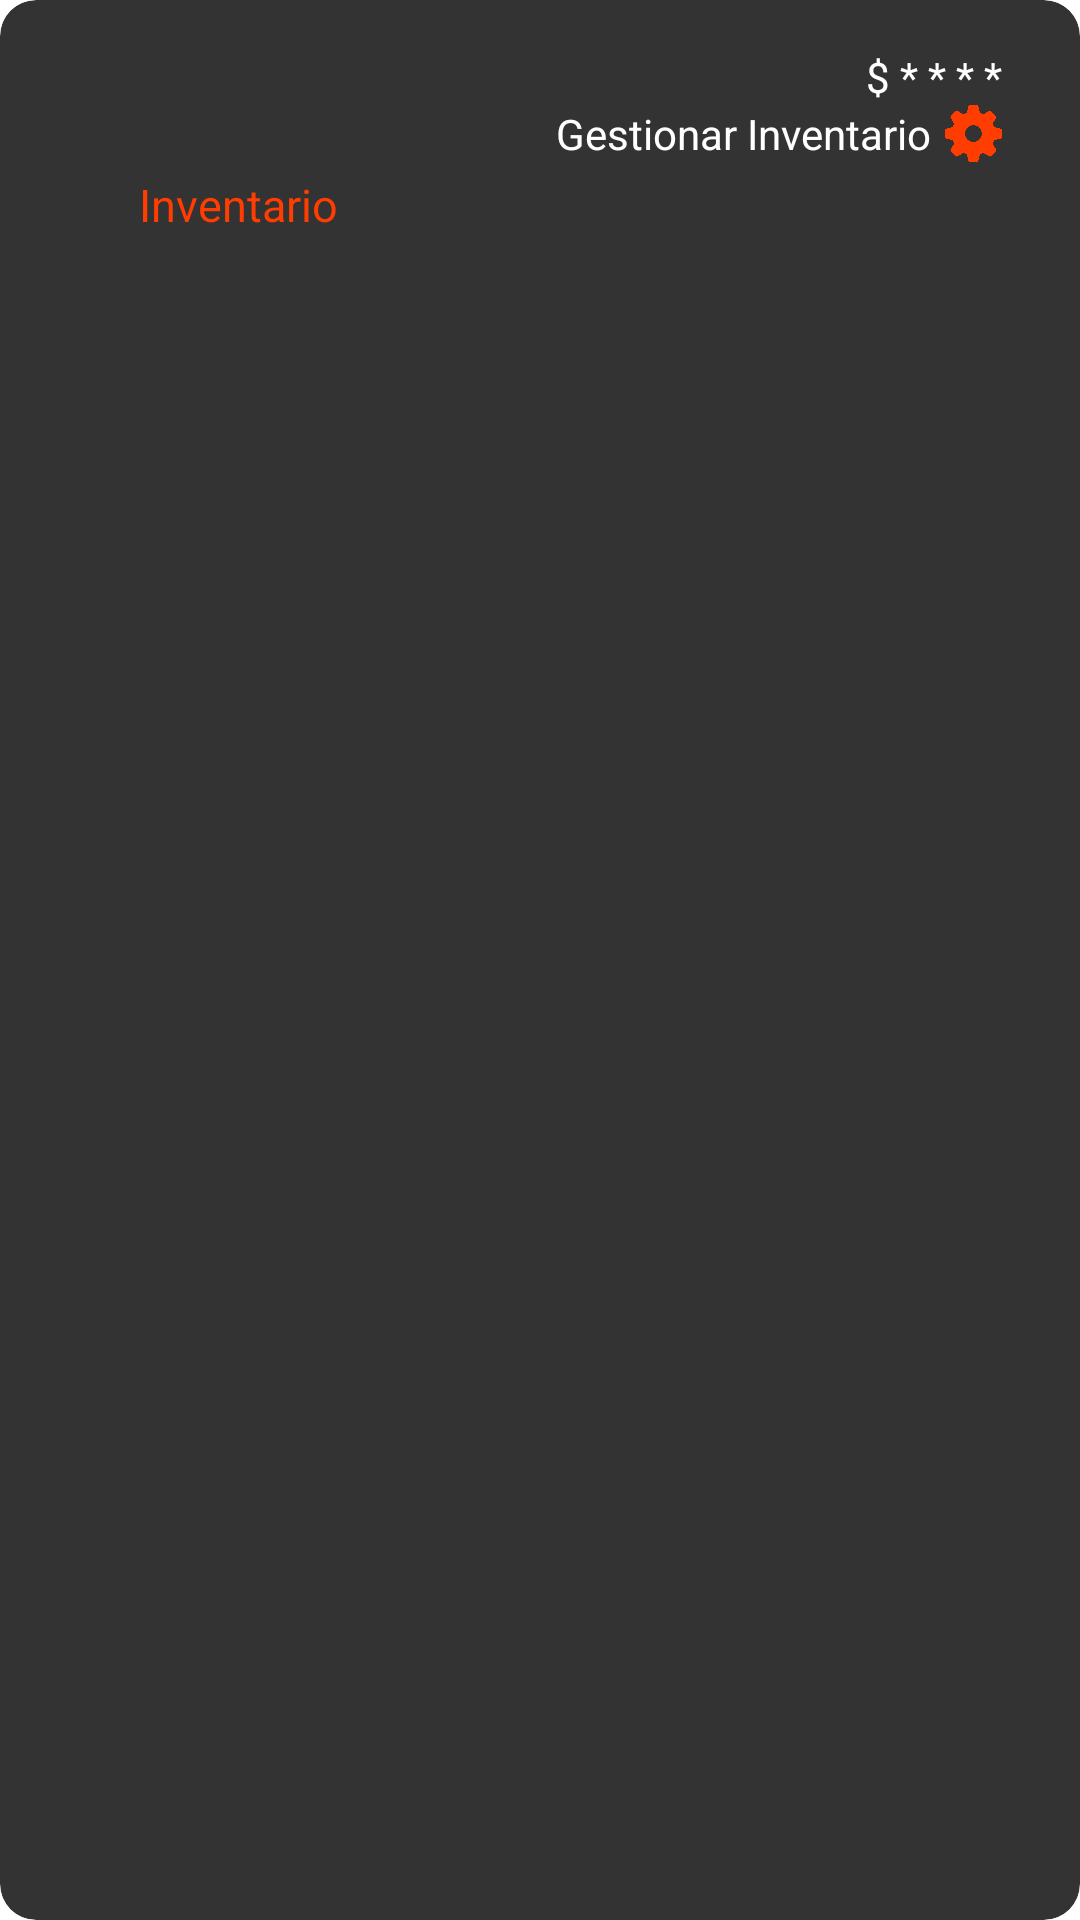

Where to tap for icons on this 1080×1920 app screen, as point (x, y):
configuraciones: point (973, 133)
